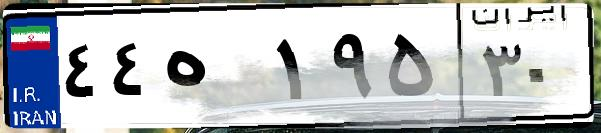0: (525, 38, 570, 115)
1: (270, 28, 330, 110)
3: (475, 38, 525, 113)
4: (57, 26, 110, 100), (110, 28, 158, 98)
5: (385, 28, 445, 110)
9: (330, 28, 385, 110)
ه: (158, 20, 270, 120)
